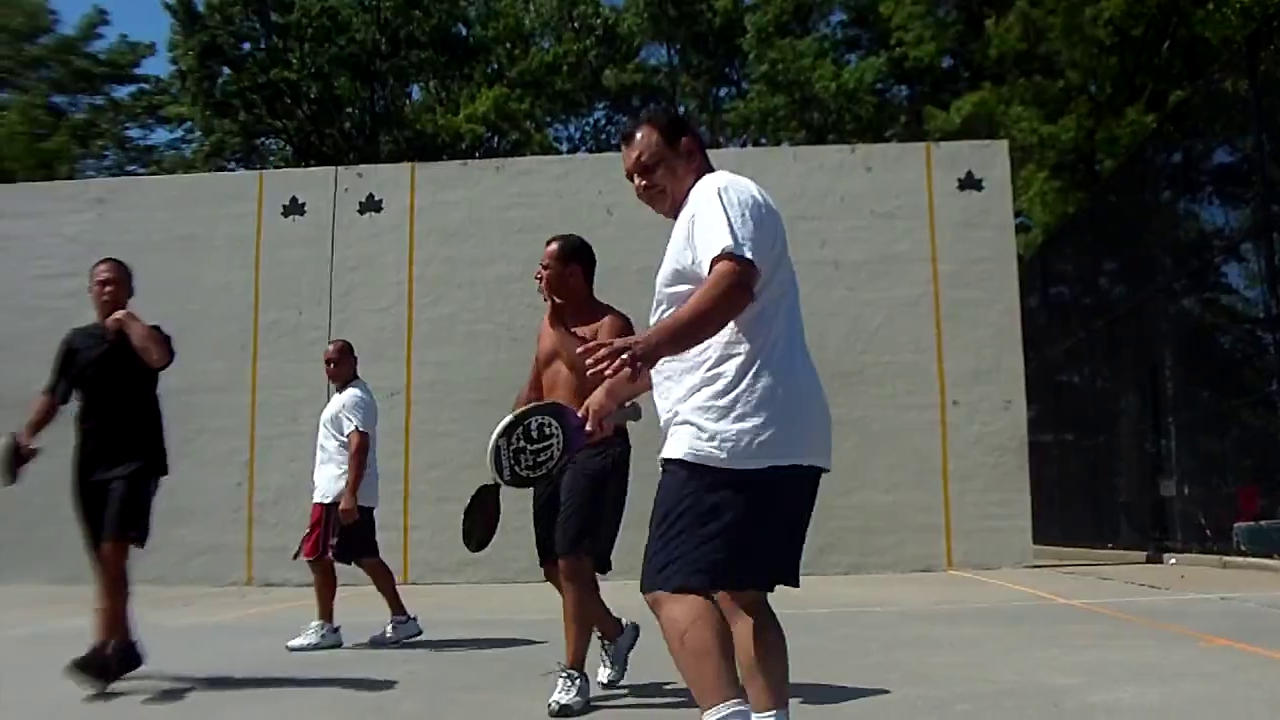person: (577, 112, 834, 720), (461, 233, 640, 717), (1, 256, 175, 695), (283, 338, 422, 652)
